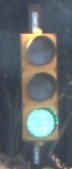Green: (12, 21, 62, 140)
